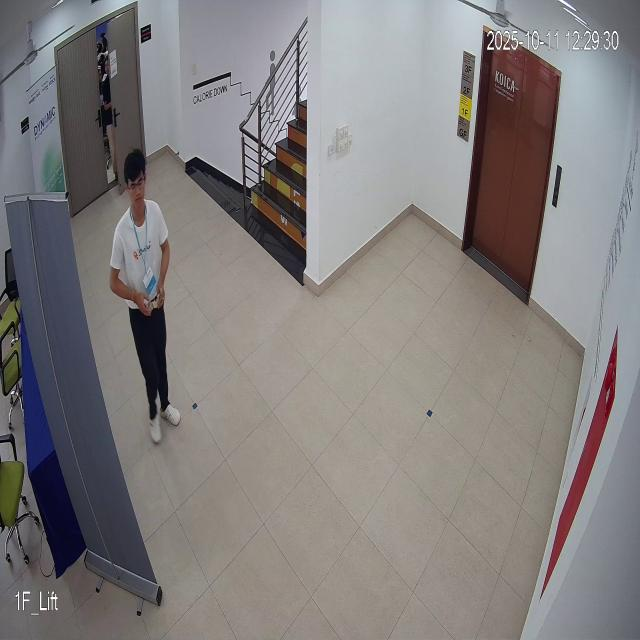face: (122, 138, 154, 221)
